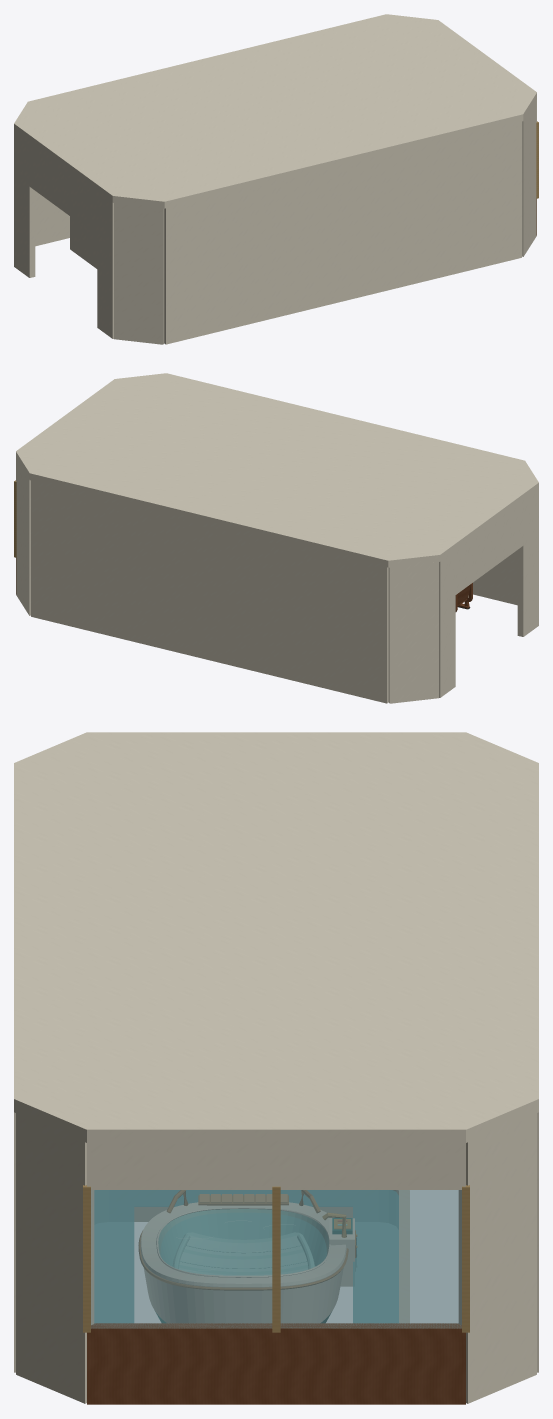
The model's file is D04_PORT_FORWARD_HOME_916_r001.glb.
3 views of the same model, one above another, from view 1: azimuth 30°, elevation 25°; view 2: azimuth 150°, elevation 25°; view 3: azimuth 270°, elevation 25° (orthographic). The views are drawn at different scales.
Parts seen in each view (by area): view 1: D04H916_Roof, D04H916_Shell_3, D04H916_Shell_2, D04H916_EntryHeader, D04H916_EntryWall_0, D04H916_EntryWall_1, D04H916_Shell_4, D04H916_Shell_7, D04H916_BathDogleg; view 2: D04H916_Roof, D04H916_Shell_7, D04H916_Shell_0, D04H916_EntryHeader, D04H916_EntryWall_1, D04H916_EntryWall_0, D04H916_Shell_6, D04H916_Shell_3; view 3: D04H916_Roof, D04H916_GardenGlass, D04H916_GardenDado, D04H916_Shell_4, D04H916_Shell_6, D04H916_GardenHead, D04H916_ReservedAquaticRest__Hollow continuous basin shell w, D04H916_Water_0, D04H916_ReservedAquaticRest__Contoured broad immersed rest s, D04H916_AquaticBasinRim, D04H916_WindowMullion_1, D04H916_WindowMullion_0 (+1 smaller).
Part boxes in pixels (x1,y1,x2,y2): D04H916_Roof: (14, 14, 536, 208); D04H916_Shell_3: (164, 121, 521, 344); D04H916_Shell_2: (114, 203, 164, 344); D04H916_EntryHeader: (29, 142, 97, 235); D04H916_EntryWall_0: (14, 131, 35, 277); D04H916_EntryWall_1: (97, 192, 113, 338); D04H916_Shell_4: (522, 100, 536, 256); D04H916_Shell_7: (35, 191, 69, 246); D04H916_BathDogleg: (70, 216, 97, 268); D04H916_Roof: (16, 373, 538, 567); D04H916_Shell_7: (31, 480, 388, 703); D04H916_Shell_0: (388, 562, 438, 703); D04H916_EntryHeader: (455, 501, 523, 594); D04H916_EntryWall_1: (517, 490, 538, 636); D04H916_EntryWall_0: (439, 551, 455, 697); D04H916_Shell_6: (16, 459, 30, 615); D04H916_Shell_3: (473, 550, 517, 605); D04H916_Roof: (14, 732, 538, 1142); D04H916_GardenGlass: (91, 1190, 461, 1328); D04H916_GardenDado: (87, 1323, 465, 1404); D04H916_Shell_4: (16, 1113, 94, 1403); D04H916_Shell_6: (458, 1113, 536, 1403); D04H916_GardenHead: (87, 1143, 465, 1189); D04H916_ReservedAquaticRest__Hollow continuous basin shell w: (140, 1202, 346, 1322); D04H916_Water_0: (94, 1190, 398, 1322); D04H916_ReservedAquaticRest__Contoured broad immersed rest s: (179, 1232, 307, 1275); D04H916_AquaticBasinRim: (134, 1190, 409, 1322); D04H916_WindowMullion_1: (272, 1186, 280, 1332); D04H916_WindowMullion_0: (462, 1185, 469, 1332).
Size of the model in its own units: 12.93 by 4.16 by 7.2.
Materials: 39 (20 with a texture image).
